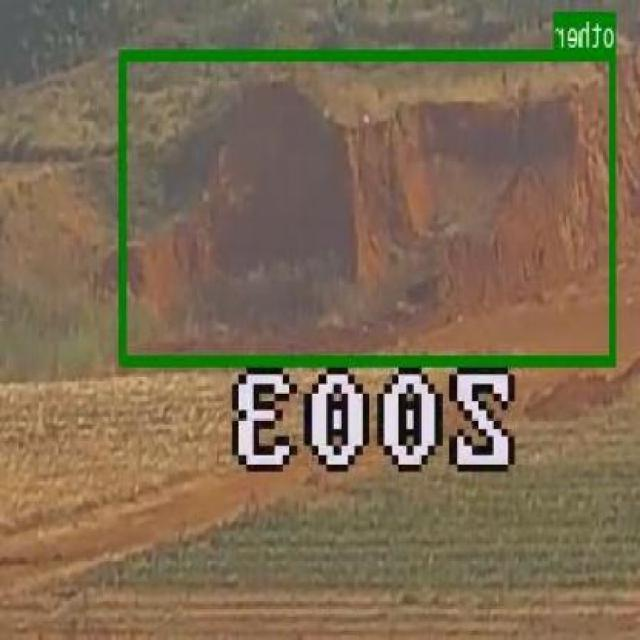other: (122, 48, 616, 364)
